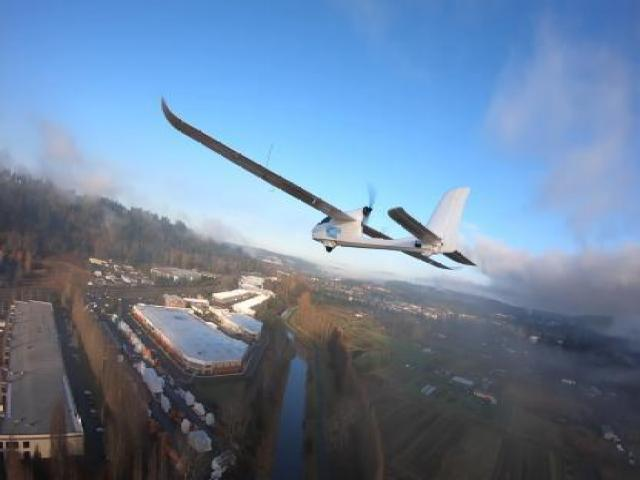uav: (151, 87, 483, 288)
